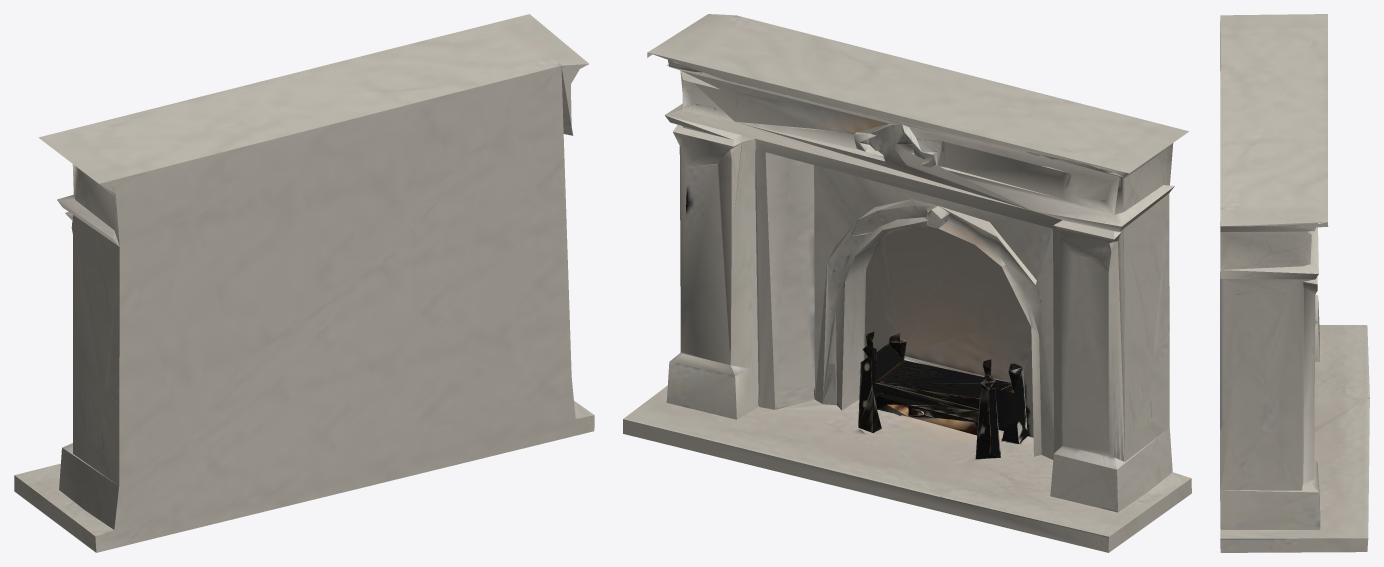
The model's file is mj-fireplace-marble-adam.lod1.glb.
3 views of the same model, side by side, from view 1: azimuth 30°, elevation 25°; view 2: azimuth 150°, elevation 25°; view 3: azimuth 270°, elevation 25° (orthographic). The views are drawn at different scales.
Parts seen in each view (by area): view 1: mj-fireplace-marble-adam; view 2: mj-fireplace-marble-adam; view 3: mj-fireplace-marble-adam.
Part boxes in pixels (x1,y1,x2,y2): mj-fireplace-marble-adam: (14, 14, 594, 552); mj-fireplace-marble-adam: (623, 14, 1191, 552); mj-fireplace-marble-adam: (1220, 14, 1369, 552).
Size of the model in its own units: 1.81 by 1.3 by 0.5356.
Materials: 1 (1 with a texture image).
